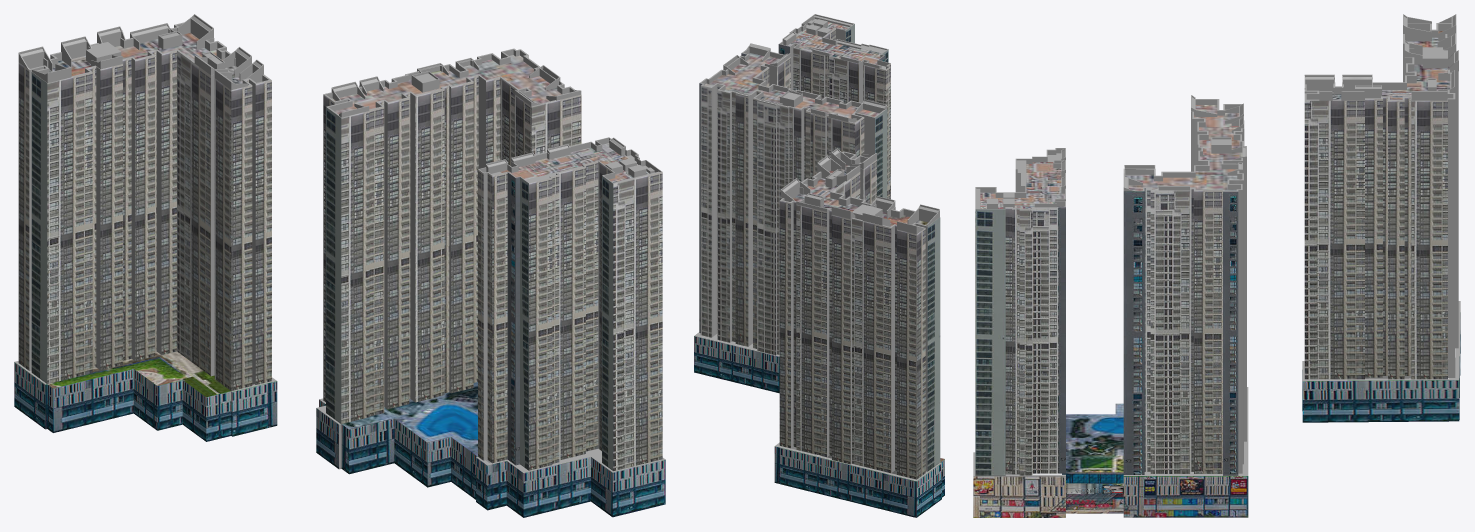
3 views of the same model, side by side, from view 1: azimuth 30°, elevation 25°; view 2: azimuth 150°, elevation 25°; view 3: azimuth 270°, elevation 25° (orthographic). The views are drawn at different scales.
Visible parts, largest first — view 1: VINHOMES_SKYLAKE; view 2: VINHOMES_SKYLAKE; view 3: VINHOMES_SKYLAKE.
Boxes of the visible parts, x1=… form: VINHOMES_SKYLAKE: x1=14, y1=14, x2=665, y2=517; VINHOMES_SKYLAKE: x1=694, y1=14, x2=944, y2=517; VINHOMES_SKYLAKE: x1=973, y1=14, x2=1460, y2=517.
Bounding box in the file's own units: 199 × 169 × 226.
Materials: 1 (1 with a texture image).
